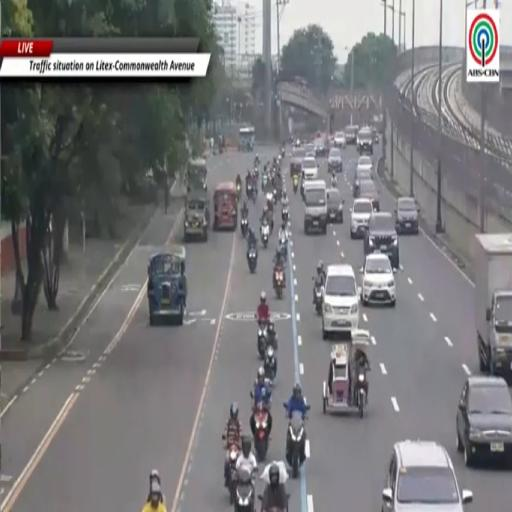car: (382, 441, 473, 511), (457, 376, 511, 467), (322, 264, 360, 339), (364, 212, 399, 269), (361, 253, 396, 307), (303, 180, 327, 234), (395, 197, 419, 234), (351, 199, 373, 238), (357, 180, 380, 211), (352, 167, 372, 197), (327, 188, 344, 222), (357, 127, 373, 154), (290, 148, 305, 175), (302, 157, 318, 180), (328, 148, 342, 172), (314, 135, 327, 156), (345, 125, 358, 145), (357, 155, 372, 171), (334, 132, 345, 148), (304, 143, 315, 155), (372, 127, 379, 143), (306, 152, 316, 158)
jeepney: (323, 330, 370, 418), (147, 246, 187, 325), (184, 190, 209, 242), (213, 182, 237, 230), (187, 158, 207, 191), (239, 126, 254, 152)
motorcycle: (286, 411, 305, 478), (254, 404, 269, 461), (234, 469, 254, 511), (228, 445, 239, 504), (357, 368, 366, 418), (264, 345, 276, 382), (258, 323, 267, 359), (274, 267, 284, 299), (247, 247, 258, 274), (315, 285, 323, 315), (261, 223, 269, 248), (279, 238, 287, 262), (240, 216, 248, 238), (246, 183, 255, 202), (262, 506, 288, 511), (292, 174, 298, 194), (282, 206, 288, 222), (262, 174, 267, 193), (266, 191, 273, 203), (273, 188, 278, 204), (237, 183, 241, 202), (254, 157, 260, 167), (281, 147, 285, 158)
tricycle: (323, 330, 370, 418)
truck: (474, 233, 511, 376)
